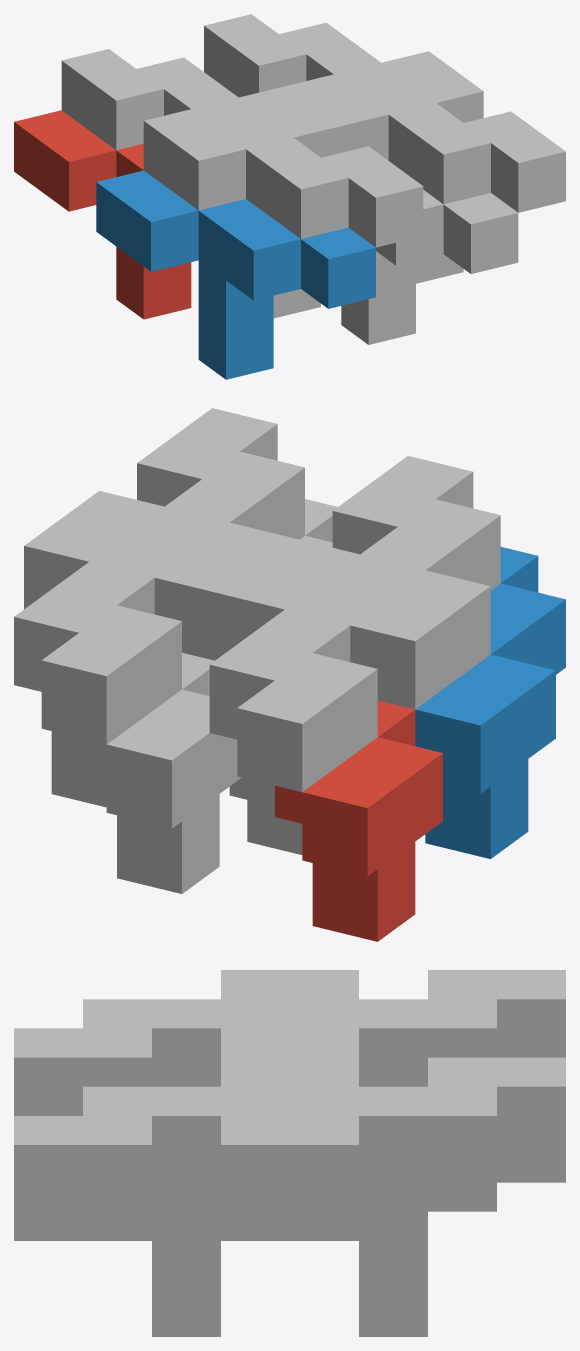
The model's file is tiling.obj.
The picture shows the model from 3 angles, top to bottom: view 1: azimuth 30°, elevation 25°; view 2: azimuth 150°, elevation 25°; view 3: azimuth 270°, elevation 25°; orthographic projection. The views are drawn at different scales.
Visible parts, largest first — view 1: copy_1_domain_2, copy_1_domain_4, copy_1_domain_8, copy_1_domain_3, copy_1_domain_7, copy_1_domain_1, copy_1_domain_6; view 2: copy_1_domain_3, copy_1_domain_7, copy_1_domain_4, copy_1_domain_2, copy_1_domain_8, copy_1_domain_1, copy_1_domain_5, copy_1_domain_6; view 3: copy_1_domain_7, copy_1_domain_8, copy_1_domain_3, copy_1_domain_4, copy_1_domain_5, copy_1_domain_6.
Boxes of the visible parts, left/top/right/bottom form: copy_1_domain_2: left=96, top=170, right=375, bottom=379; copy_1_domain_4: left=143, top=109, right=423, bottom=318; copy_1_domain_8: left=287, top=74, right=565, bottom=283; copy_1_domain_3: left=61, top=49, right=341, bottom=157; copy_1_domain_7: left=204, top=14, right=483, bottom=122; copy_1_domain_1: left=14, top=110, right=191, bottom=319; copy_1_domain_6: left=341, top=190, right=518, bottom=344; copy_1_domain_3: left=209, top=538, right=387, bottom=854; copy_1_domain_7: left=14, top=491, right=191, bottom=807; copy_1_domain_4: left=323, top=456, right=500, bottom=709; copy_1_domain_2: left=415, top=547, right=565, bottom=858; copy_1_domain_8: left=127, top=408, right=304, bottom=660; copy_1_domain_1: left=275, top=700, right=442, bottom=941; copy_1_domain_5: left=79, top=652, right=241, bottom=893; copy_1_domain_6: left=229, top=499, right=337, bottom=799; copy_1_domain_7: left=221, top=1057, right=565, bottom=1303; copy_1_domain_8: left=14, top=1057, right=358, bottom=1303; copy_1_domain_3: left=221, top=970, right=565, bottom=1086; copy_1_domain_4: left=14, top=970, right=358, bottom=1115; copy_1_domain_5: left=221, top=1149, right=565, bottom=1336; copy_1_domain_6: left=14, top=1207, right=220, bottom=1336.
Bounding box in the file's own units: 7 × 4 × 8.
